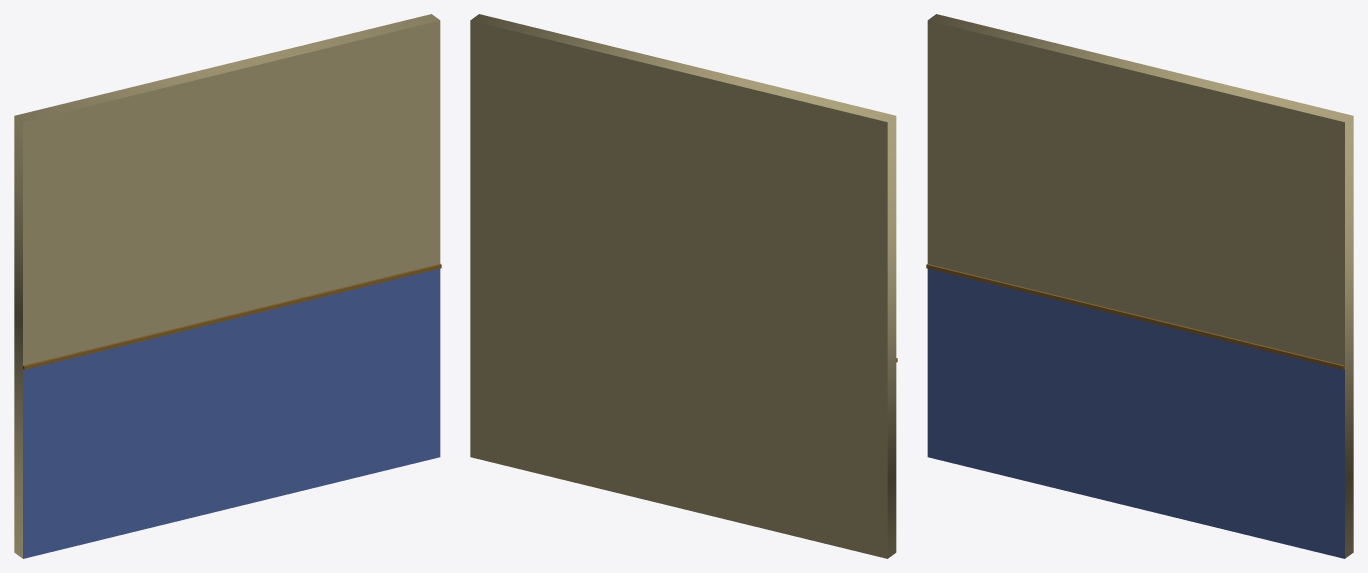
Rendered from Retro Wall Extruded.fbx.
3 renders of one model, left to right at view 1: azimuth 30°, elevation 25°; view 2: azimuth 150°, elevation 25°; view 3: azimuth 330°, elevation 25°, orthographic.
Parts seen in each view (by area): view 1: retro_wall_extruded; view 2: retro_wall_extruded; view 3: retro_wall_extruded.
Part boxes in pixels (<box>): retro_wall_extruded: <box>14,14,441,558</box>; retro_wall_extruded: <box>470,14,897,558</box>; retro_wall_extruded: <box>926,14,1353,558</box>.
Bounding box in the file's own units: 300 × 300 × 12.47.
